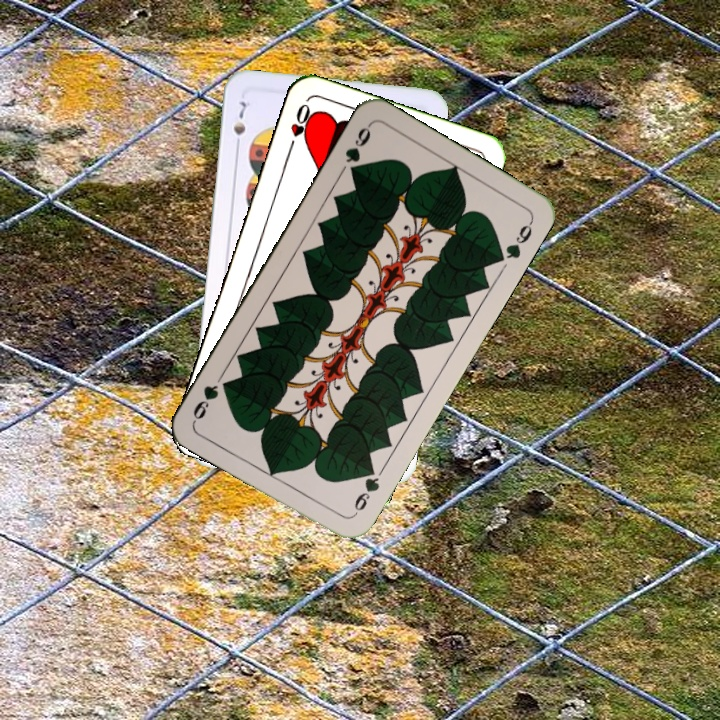G9: (341, 120, 374, 178), (350, 461, 382, 519)
HO: (284, 99, 317, 155)
S7: (229, 97, 249, 153)
